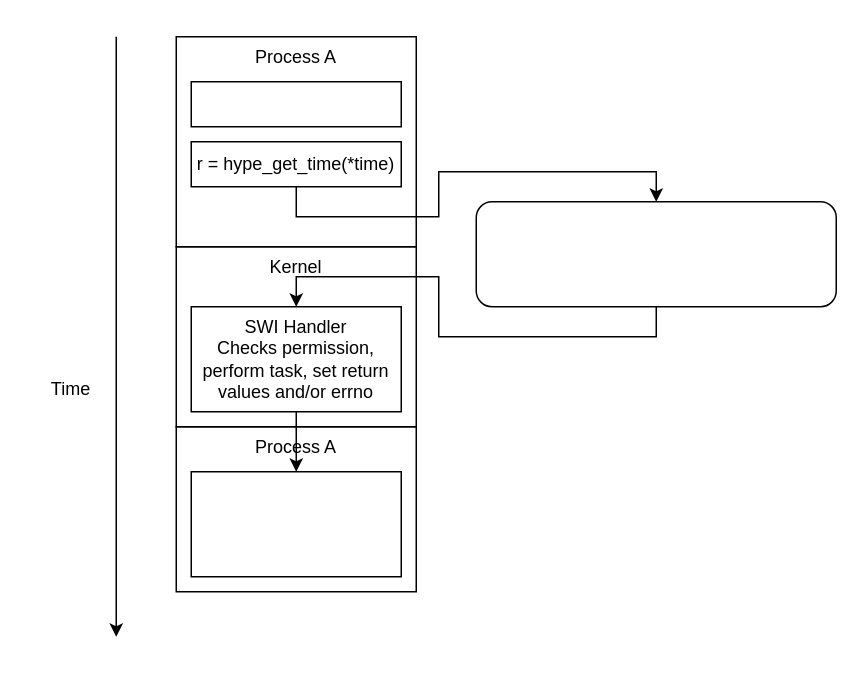
This 863x675 diagram has some shape labels left out. Each missing label, with the centre of its shape:
Header/statlic lib : r = syscall1(SYSCALL_GET_TIME, *time): [655,253]
Regular code execution: [295,103]
Resumes regular code (check return value, handle errors, retry, etc.): [295,523]
